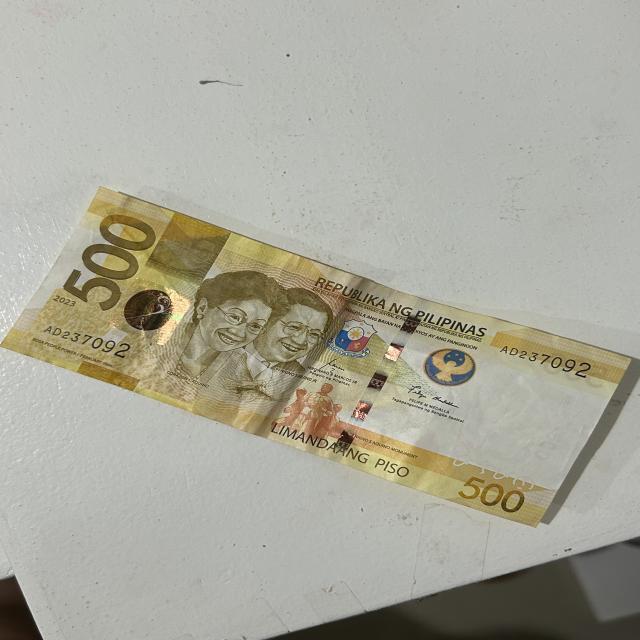concealed_value: (156, 214, 218, 281)
optically_variable_device: (485, 324, 599, 382), (121, 290, 177, 335)
security_thread: (332, 300, 419, 454)
see_through_mark: (444, 451, 536, 490)
serial_number: (38, 326, 132, 362)
value_watermark: (534, 433, 565, 461)
